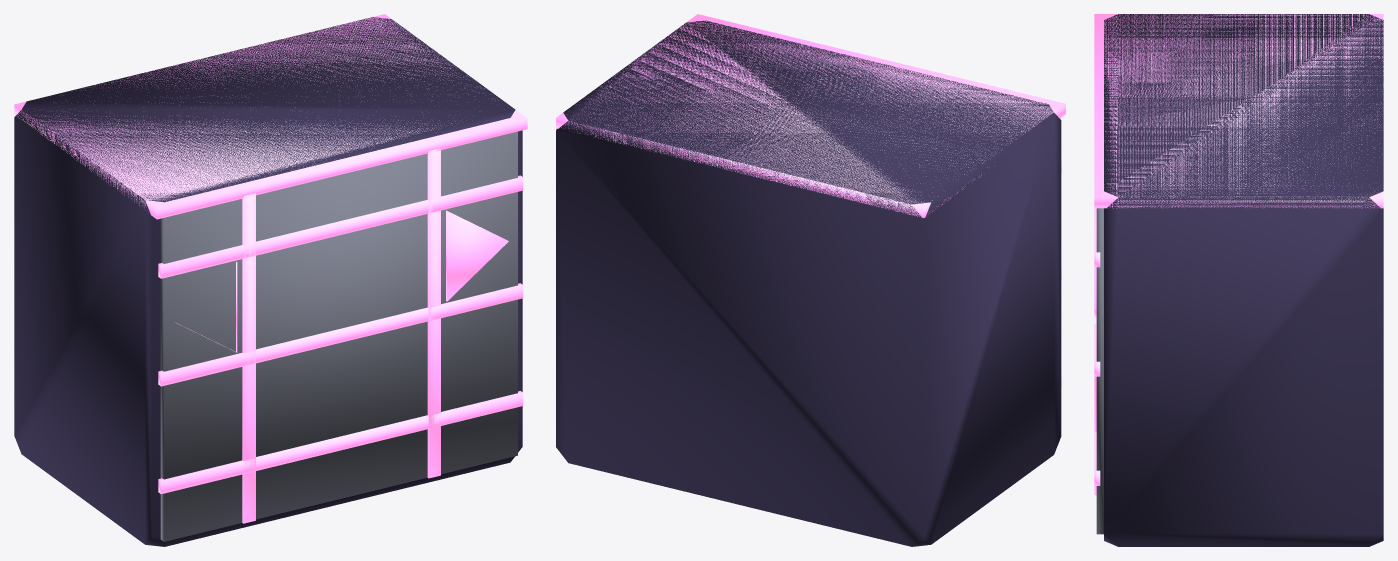
File: OBS_FullBlock_Wall.glb
3 views of the same model, side by side, from view 1: azimuth 30°, elevation 25°; view 2: azimuth 150°, elevation 25°; view 3: azimuth 270°, elevation 25° (orthographic). The views are drawn at different scales.
Parts seen in each view (by area): view 1: body, faceplate, cap_strip, rib_2, rib_1, rib_0, stile_0, stile_1, arrow_1; view 2: body, cap_strip; view 3: body, cap_strip, faceplate.
Part boxes in pixels (<box>): body: <box>14,17,522,546</box>; faceplate: <box>160,131,517,541</box>; cap_strip: <box>14,14,527,219</box>; rib_2: <box>158,175,523,278</box>; rib_1: <box>158,283,523,386</box>; rib_0: <box>158,391,523,494</box>; stile_0: <box>242,193,255,523</box>; stile_1: <box>427,148,440,478</box>; arrow_1: <box>446,210,508,301</box>; body: <box>556,20,1061,546</box>; cap_strip: <box>556,14,1065,217</box>; body: <box>1104,14,1383,546</box>; cap_strip: <box>1094,14,1383,208</box>; faceplate: <box>1096,208,1103,534</box>.
Size of the model in its own units: 1.8 by 1.6 by 1.2.
